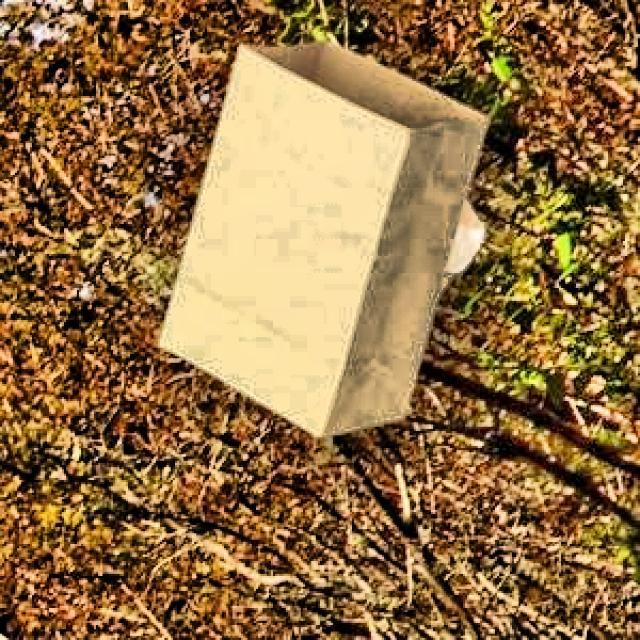Paper-bag: (145, 32, 497, 439)
